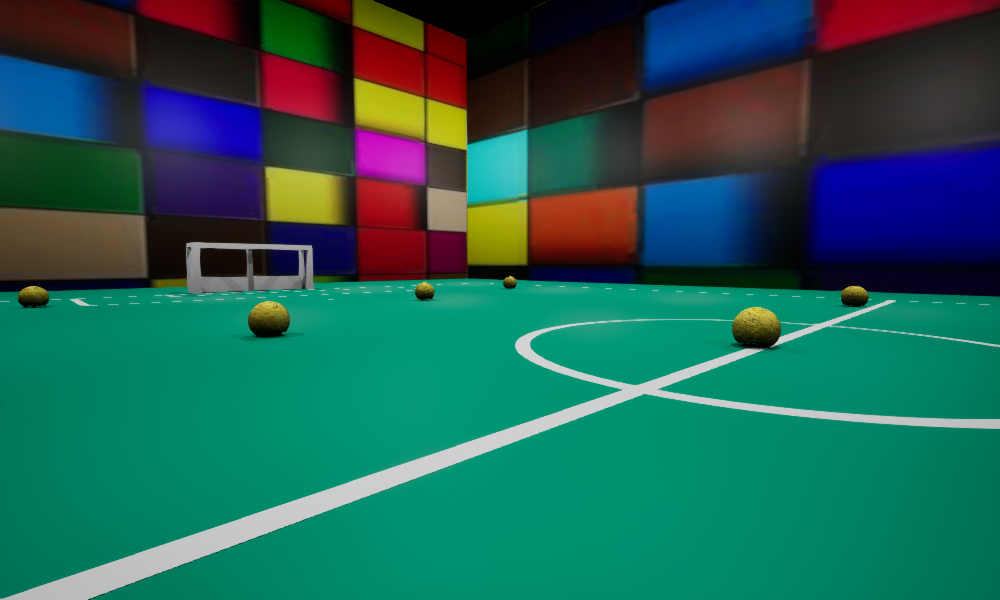b: (732, 307, 780, 347), (248, 301, 289, 336), (18, 286, 48, 307), (841, 286, 868, 306), (415, 282, 434, 299), (503, 276, 516, 288)
g: (186, 242, 313, 293)
